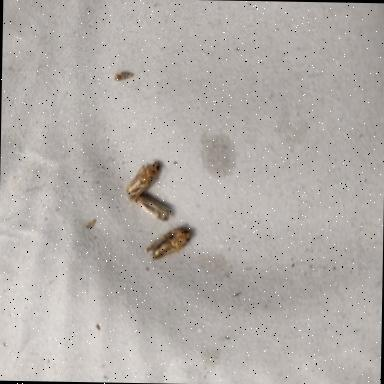pbw: (144, 226, 192, 263), (126, 161, 161, 205), (136, 196, 169, 224)
